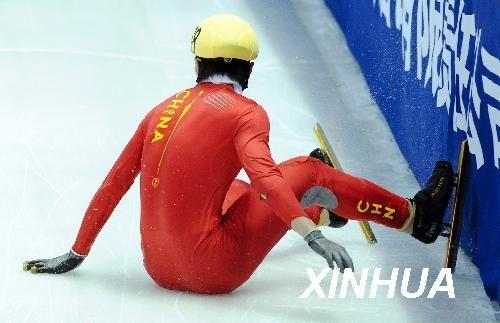fall: (2, 10, 489, 304)
